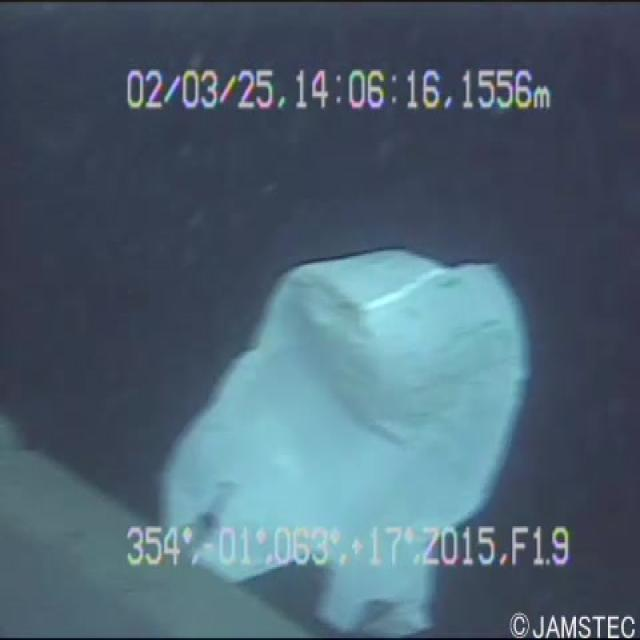plastic: (157, 208, 536, 638)
